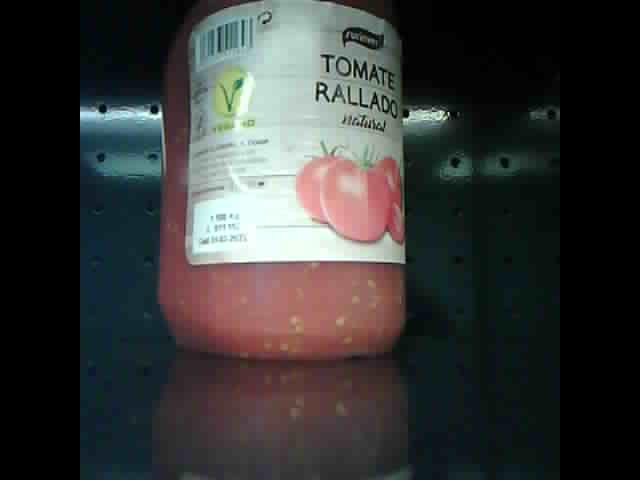tomate: (158, 4, 402, 360)
